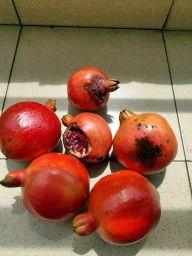pomegranate: (71, 169, 161, 246), (1, 152, 90, 222), (113, 108, 179, 175), (0, 97, 62, 161), (62, 114, 112, 164), (67, 67, 121, 110)
